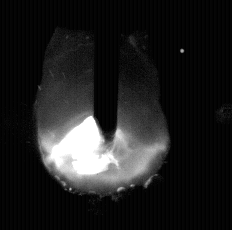arame: (94, 0, 119, 144)
poca: (36, 0, 171, 230)
